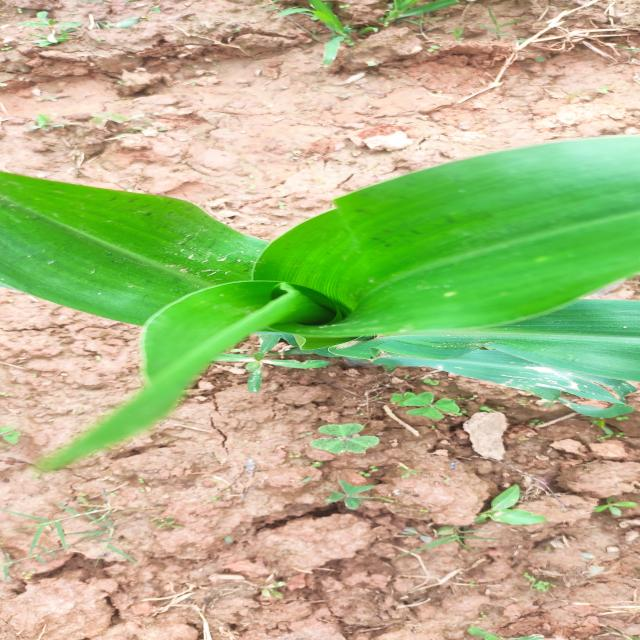maize: (3, 166, 640, 389)
weed: (337, 392, 538, 533), (305, 0, 464, 86)
